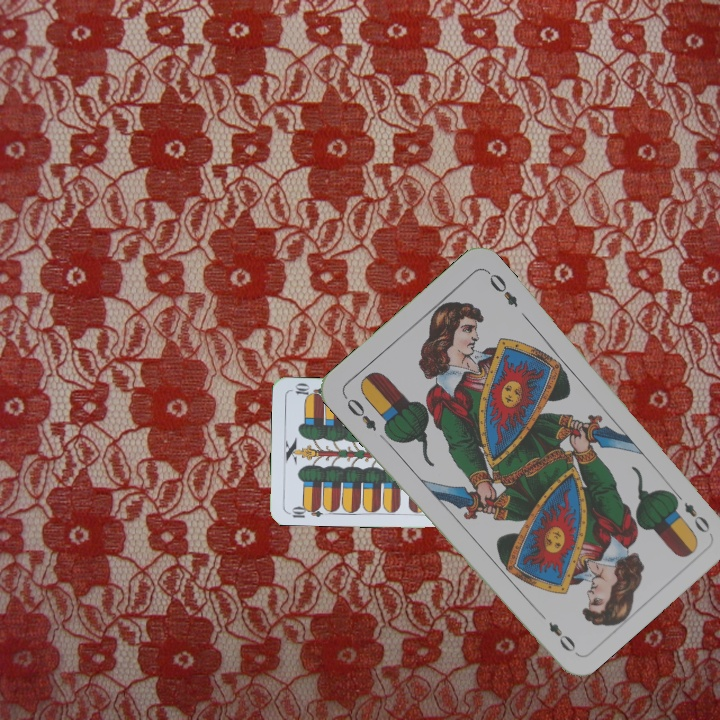E10: (284, 501, 325, 520)
EO: (668, 487, 713, 536), (339, 391, 379, 434)
